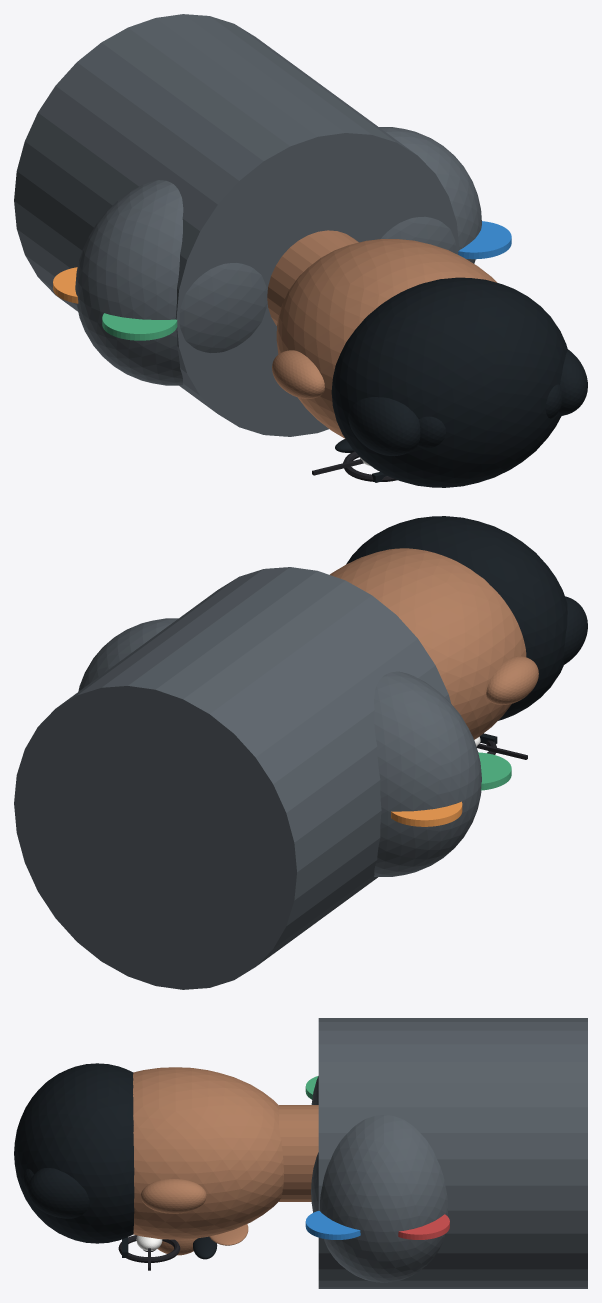
The picture shows the model from 3 angles, top to bottom: view 1: azimuth 30°, elevation 25°; view 2: azimuth 150°, elevation 25°; view 3: azimuth 270°, elevation 25°; orthographic projection. The views are drawn at different scales.
Parts seen in each view (by area): view 1: TshirtBody, HairCap, ShoulderL, Head, ShoulderR, HairTuft0, Neck, EarL, sticker-GECW, HairTuft6, sticker-SAE, HairTuft1 (+1 smaller); view 2: TshirtBody, ShoulderL, Head, HairCap, ShoulderR, EarL, sticker-LEAD, HairTuft0, sticker-GECW; view 3: TshirtBody, Head, ShoulderR, HairCap, Neck, HairTuft6, EarR, sticker-SAE, sticker-KWA, glasses.R, Chin, MoustacheR (+1 smaller).
Boxes of the visible parts, bbox=[...] form: TshirtBody: bbox=[14, 14, 459, 436]; HairCap: bbox=[331, 277, 567, 487]; ShoulderL: bbox=[75, 180, 267, 385]; Head: bbox=[276, 239, 497, 438]; ShoulderR: bbox=[379, 127, 481, 263]; HairTuft0: bbox=[348, 397, 420, 456]; Neck: bbox=[267, 230, 358, 325]; EarL: bbox=[272, 350, 324, 398]; sticker-GECW: bbox=[102, 313, 177, 340]; HairTuft6: bbox=[559, 349, 587, 415]; sticker-SAE: bbox=[458, 221, 511, 259]; HairTuft1: bbox=[418, 416, 445, 447]; TshirtBody: bbox=[14, 567, 450, 989]; ShoulderL: bbox=[374, 671, 481, 876]; Head: bbox=[330, 548, 526, 739]; HairCap: bbox=[346, 516, 567, 720]; ShoulderR: bbox=[78, 618, 178, 691]; EarL: bbox=[486, 656, 538, 704]; sticker-LEAD: bbox=[391, 801, 462, 826]; HairTuft0: bbox=[563, 596, 587, 664]; sticker-GECW: bbox=[478, 752, 511, 790]; TshirtBody: bbox=[318, 1018, 587, 1288]; Head: bbox=[133, 1067, 283, 1239]; ShoulderR: bbox=[311, 1115, 447, 1282]; HairCap: bbox=[14, 1063, 134, 1243]; Neck: bbox=[279, 1105, 318, 1201]; HairTuft6: bbox=[28, 1168, 89, 1218]; EarR: bbox=[141, 1179, 206, 1213]; sticker-SAE: bbox=[305, 1211, 360, 1239]; sticker-KWA: bbox=[398, 1214, 449, 1239]; glasses.R: bbox=[118, 1235, 180, 1262]; Chin: bbox=[209, 1224, 248, 1245]; MoustacheR: bbox=[193, 1236, 217, 1259].
Size of the model in its own units: 2.2 by 1.56 by 3.3.
